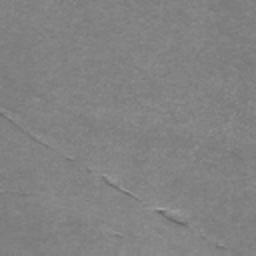Finishing roll printing: (1, 114, 51, 148), (101, 177, 142, 203), (154, 210, 189, 228), (215, 242, 228, 251)
